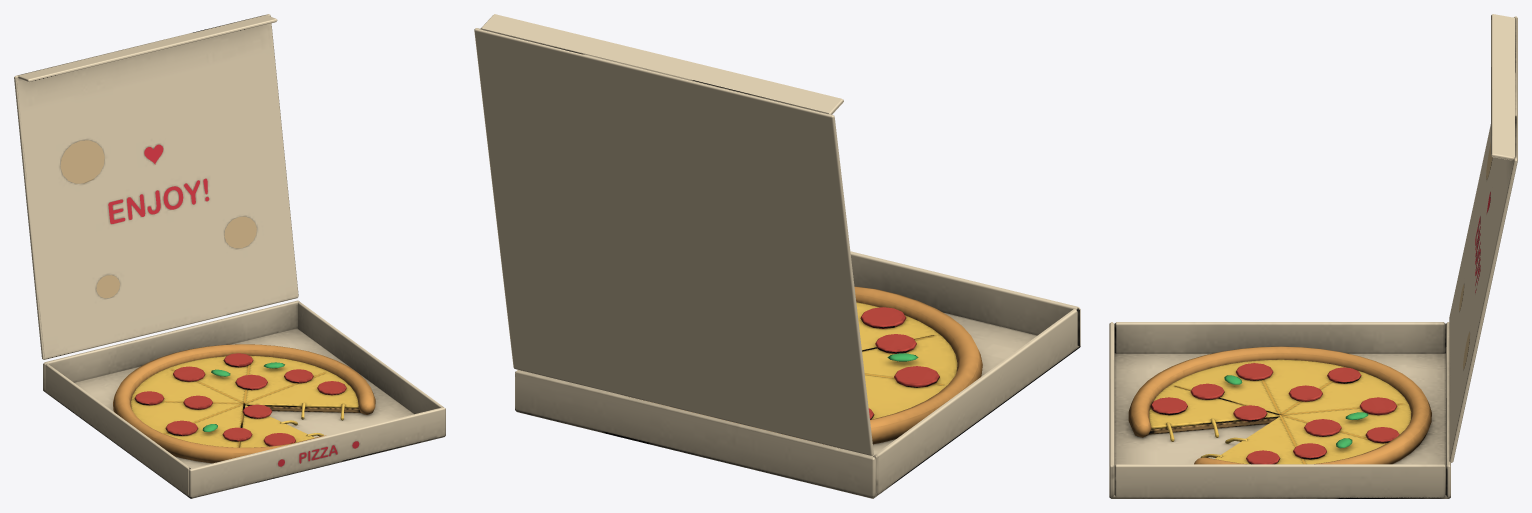
File: pizza_box.glb
The picture shows the model from 3 angles, left to right: view 1: azimuth 30°, elevation 25°; view 2: azimuth 150°, elevation 25°; view 3: azimuth 270°, elevation 25°; orthographic projection. The views are drawn at different scales.
Parts seen in each view (by area): view 1: pizza_box; view 2: pizza_box; view 3: pizza_box.
Part boxes in pixels (x1=…): pizza_box: x1=14, y1=14, x2=445, y2=498; pizza_box: x1=474, y1=14, x2=1080, y2=498; pizza_box: x1=1109, y1=14, x2=1517, y2=498.
Bounding box in the file's own units: 0.4 × 0.4444 × 0.4788.
Materials: 9 (9 with a texture image).
